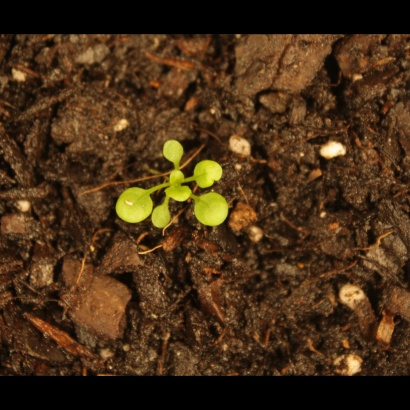leaf: (191, 191, 232, 229), (114, 187, 154, 224), (190, 159, 229, 190), (160, 137, 188, 166), (165, 183, 193, 206), (151, 205, 174, 228), (167, 166, 190, 189)
